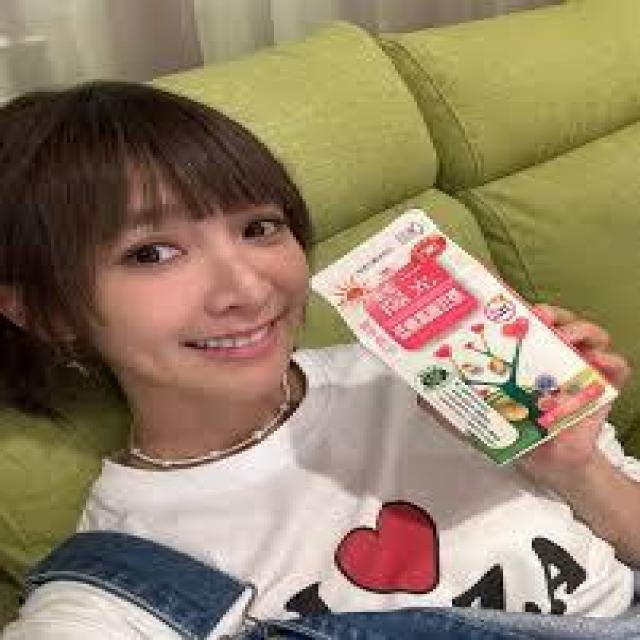TongYi_LowSugarHighFiberSoyMilk: (307, 205, 624, 463)
